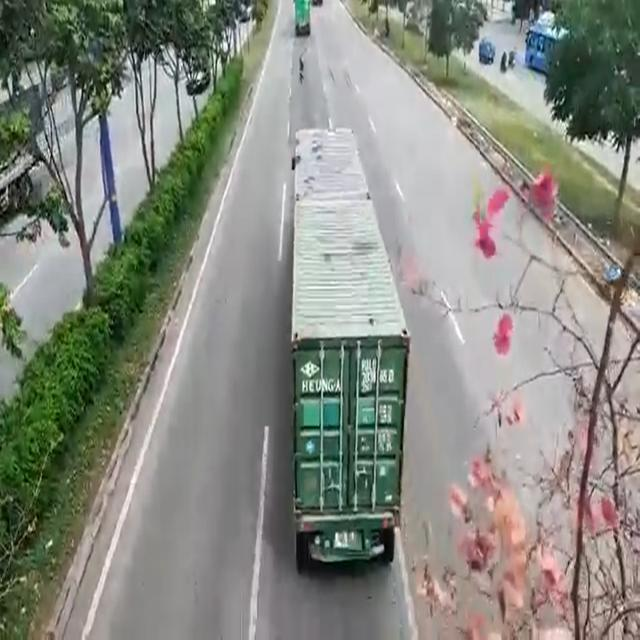truck: (294, 129, 396, 563)
